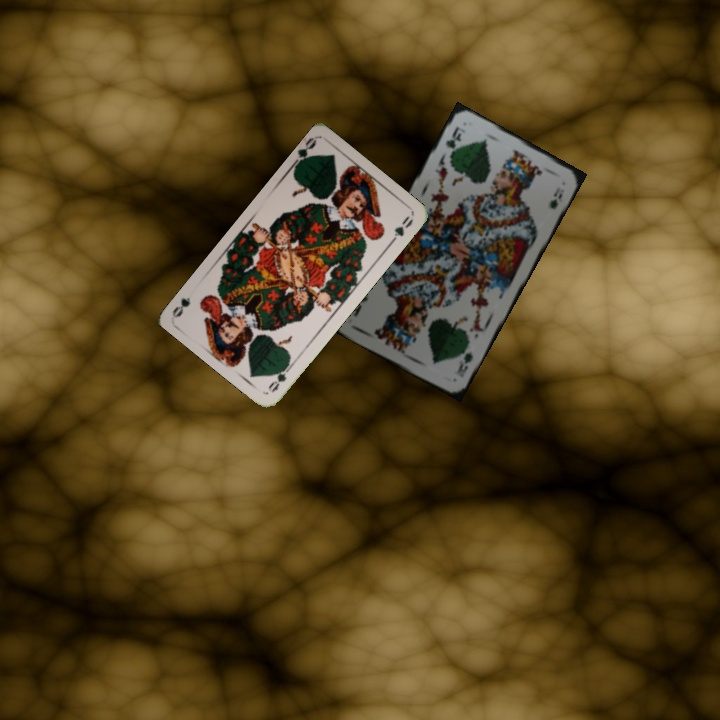GK: (453, 341, 475, 380), (442, 122, 464, 160)
GO: (287, 134, 319, 171), (264, 358, 296, 395)
